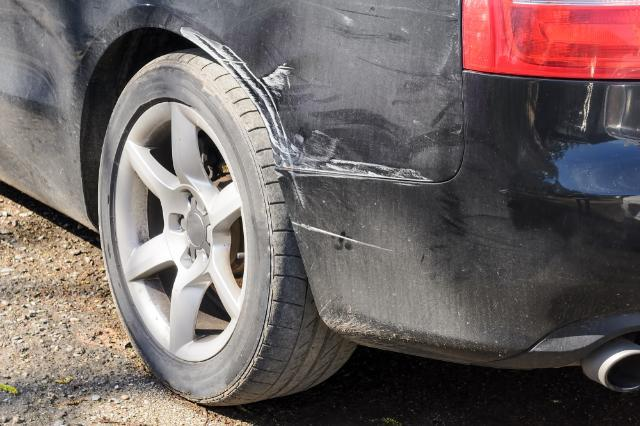scratch: (180, 28, 439, 183), (289, 218, 404, 257), (288, 172, 361, 208)
